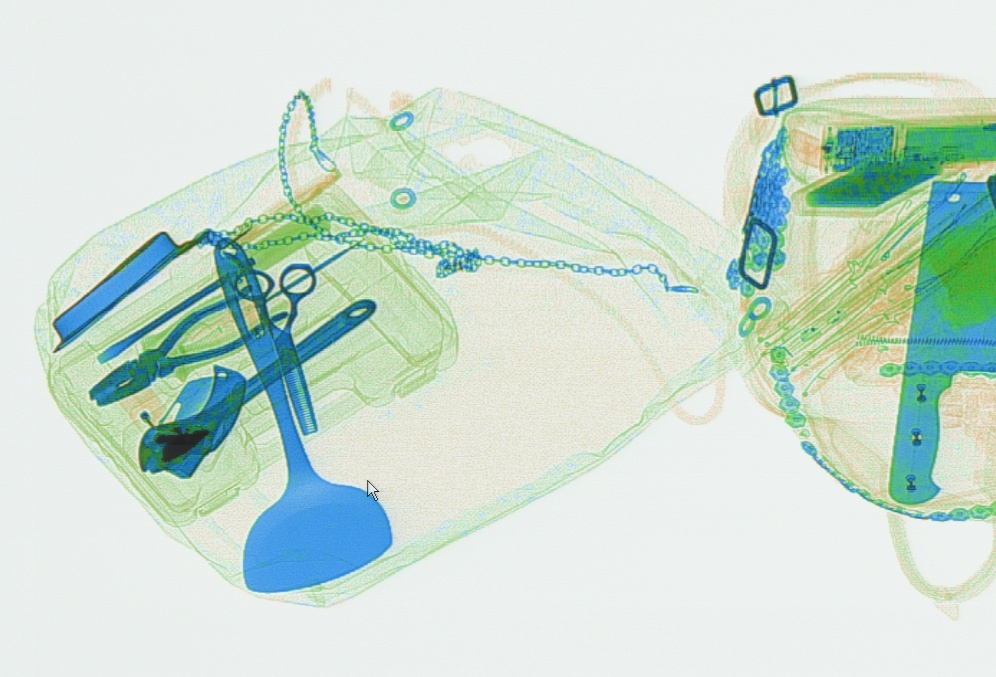knife: (884, 180, 991, 507), (138, 361, 247, 481)
lighter: (101, 356, 185, 455)
